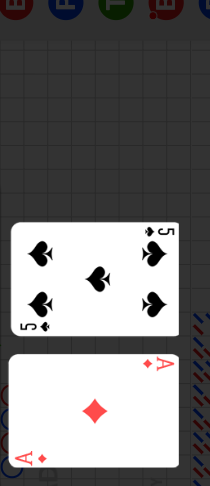5S: (143, 226, 176, 238)
AD: (14, 449, 50, 466)
